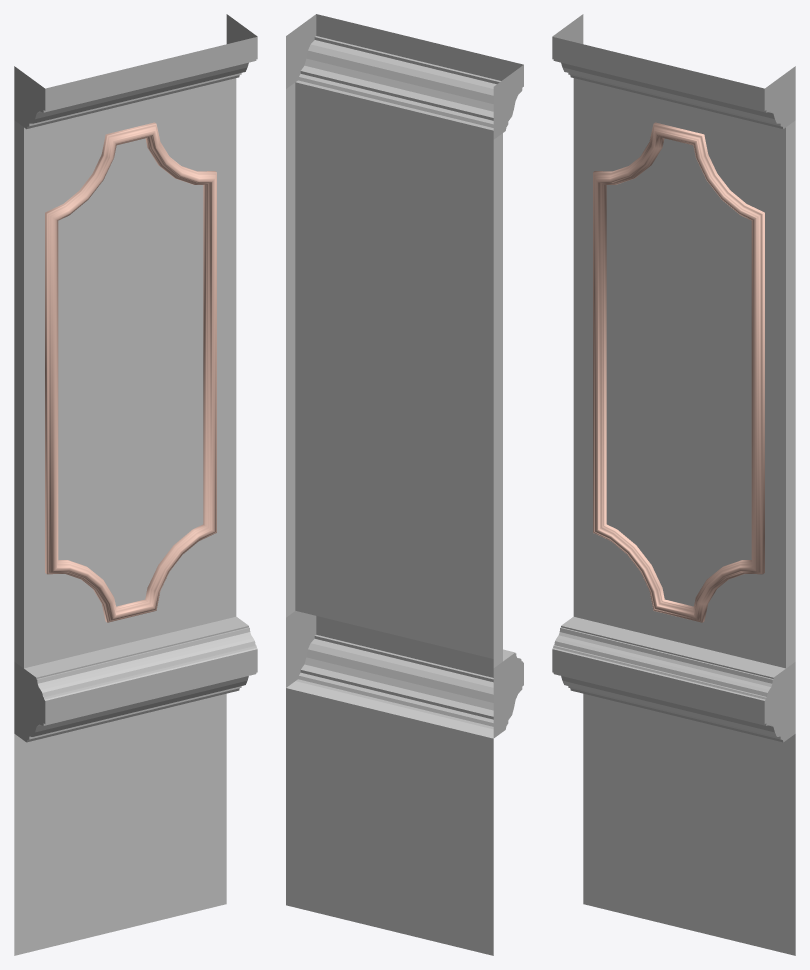
File: Shop_Wall_Column.fbx
The picture shows the model from 3 angles, left to right: view 1: azimuth 30°, elevation 25°; view 2: azimuth 150°, elevation 25°; view 3: azimuth 330°, elevation 25°; orthographic projection. The views are drawn at different scales.
Parts seen in each view (by area): view 1: Wall_Column; view 2: Wall_Column; view 3: Wall_Column.
Boxes of the visible parts, box(x1,y1,x2,y2) form: Wall_Column: box(14, 14, 257, 955); Wall_Column: box(286, 14, 523, 955); Wall_Column: box(552, 14, 795, 955).
Size of the model in its own units: 100 by 400 by 25.26.
